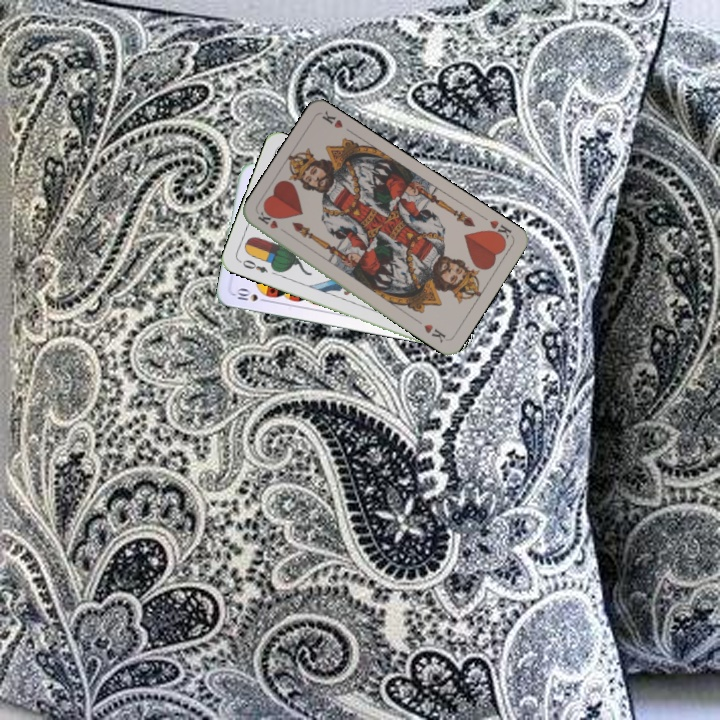EO: (238, 255, 270, 276)
HK: (253, 208, 291, 237), (483, 216, 515, 245)
S10: (230, 285, 271, 305)
